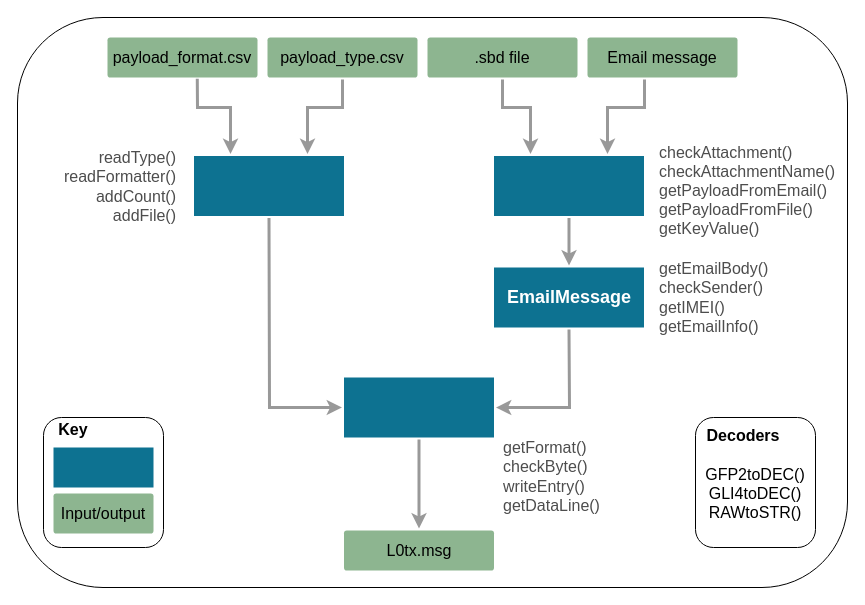
Image size: 865x605. Some labels were removed from this diagram. The shapes that lost their labels are listed below. From the top down, each one's box as (x1, y1, x2, y2) in pixels, then its label:
(194, 156, 344, 216): PayloadFormat
(494, 156, 644, 216): SbdMessage
(344, 377, 494, 437): L0tx
(53, 447, 153, 487): Class object
